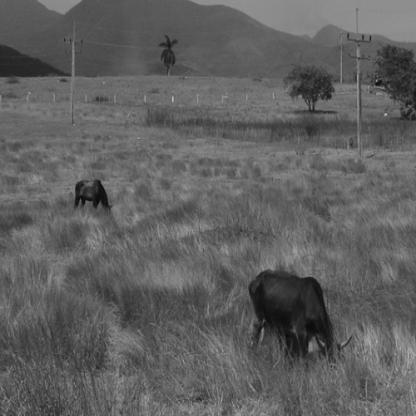cow: (245, 267, 355, 369), (72, 180, 112, 210)
